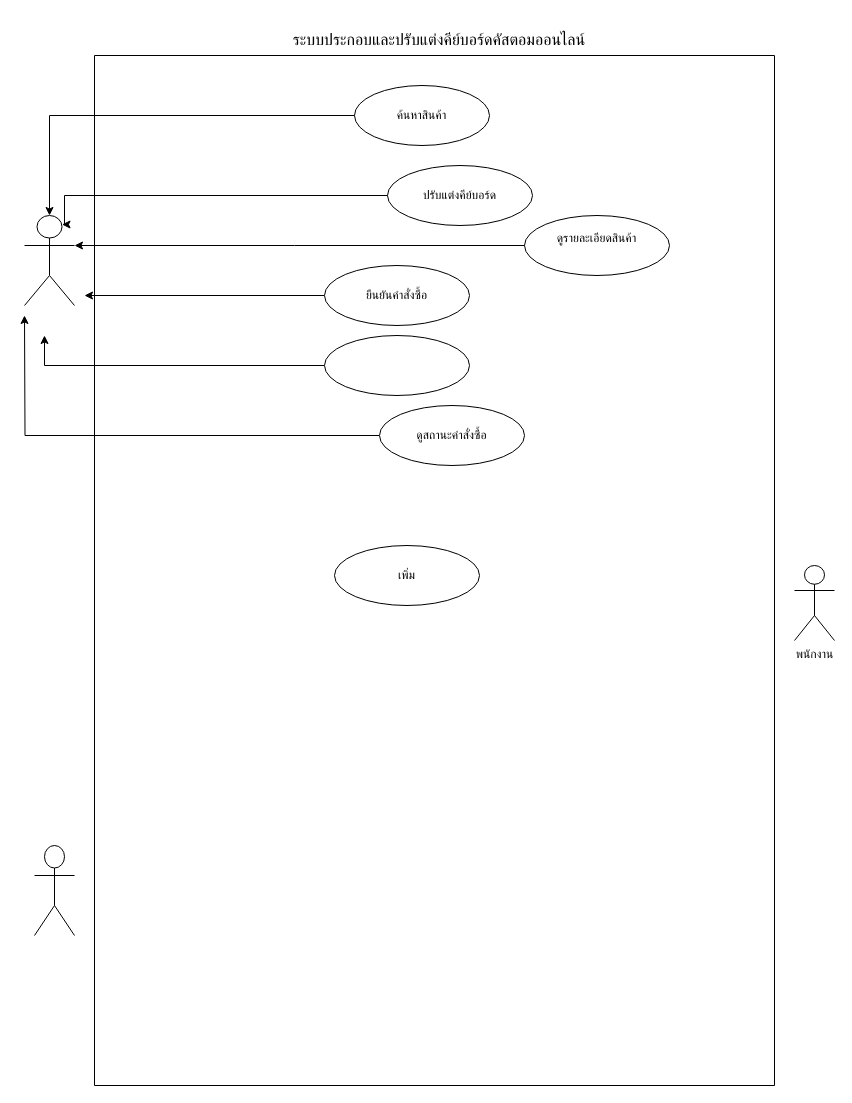
Some shapes in this 852 by 1103 pixel diagram are drawn without their labels. The shapes that lost their labels are listed below. From the top down, each one's centre as x and y in pixels, then its label:
the point at 49,260: ลูกค้า
the point at 397,365: ชำระเงิน
the point at 54,890: เจ้าของ
